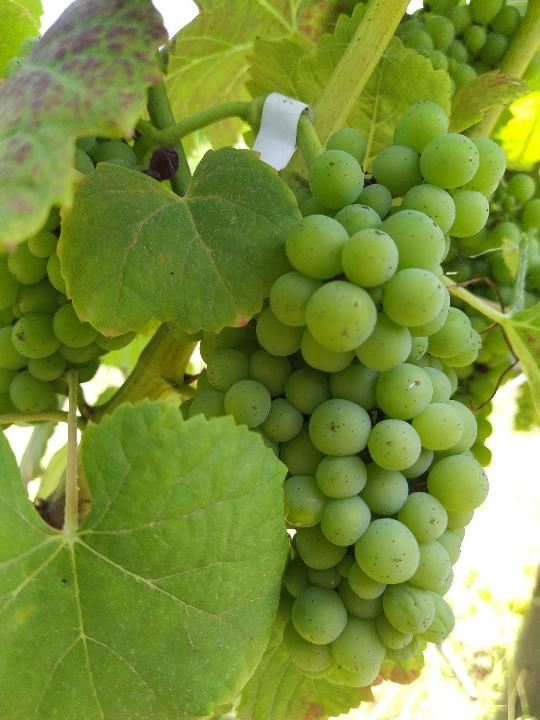grape: (169, 98, 509, 695)
